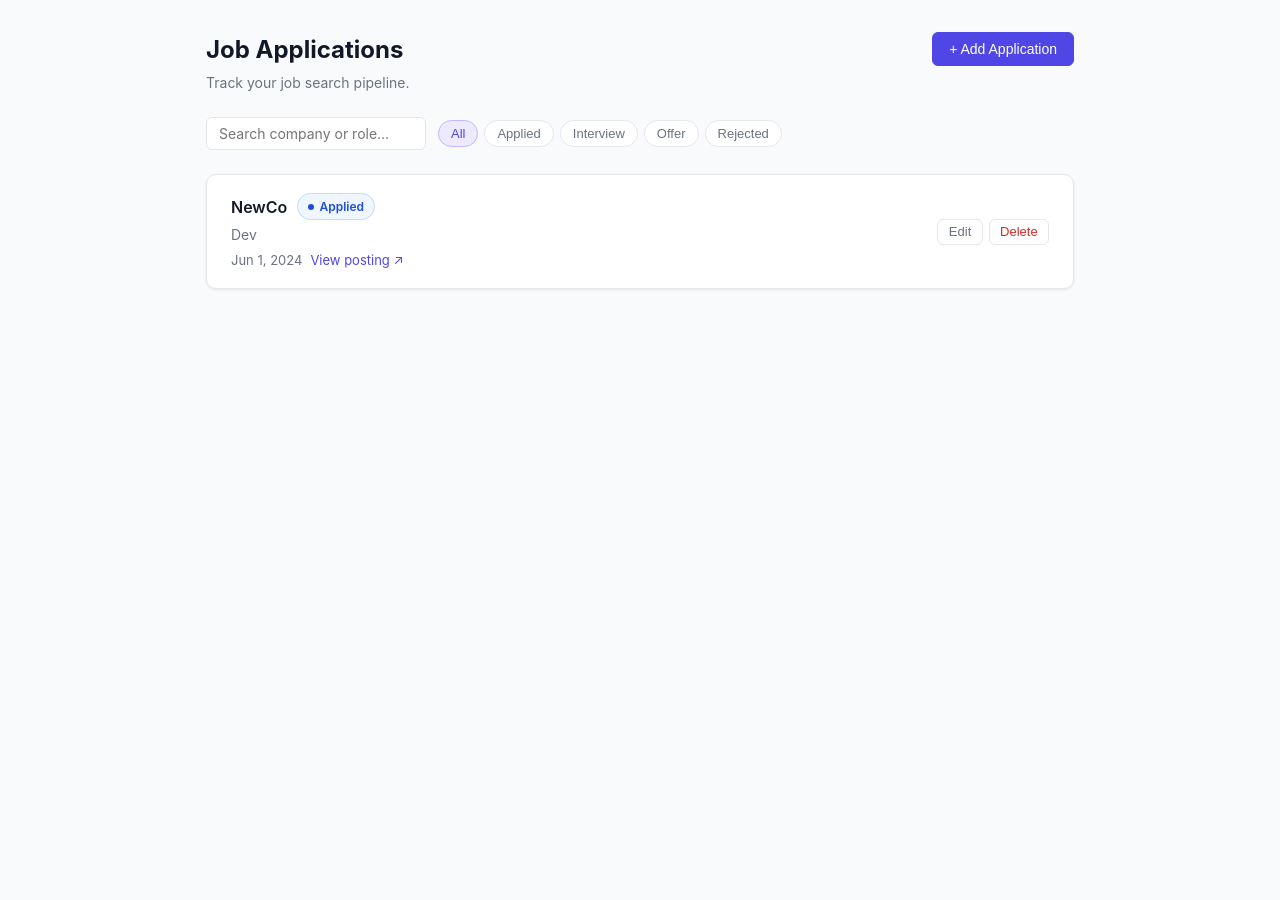
Test: ApplicationListView › shows validation errors when required fields are empty
The image size is (1280, 900).
Click the button "+ Add Application" at (1003, 49), box x1=932 y1=32 x2=1074 y2=66
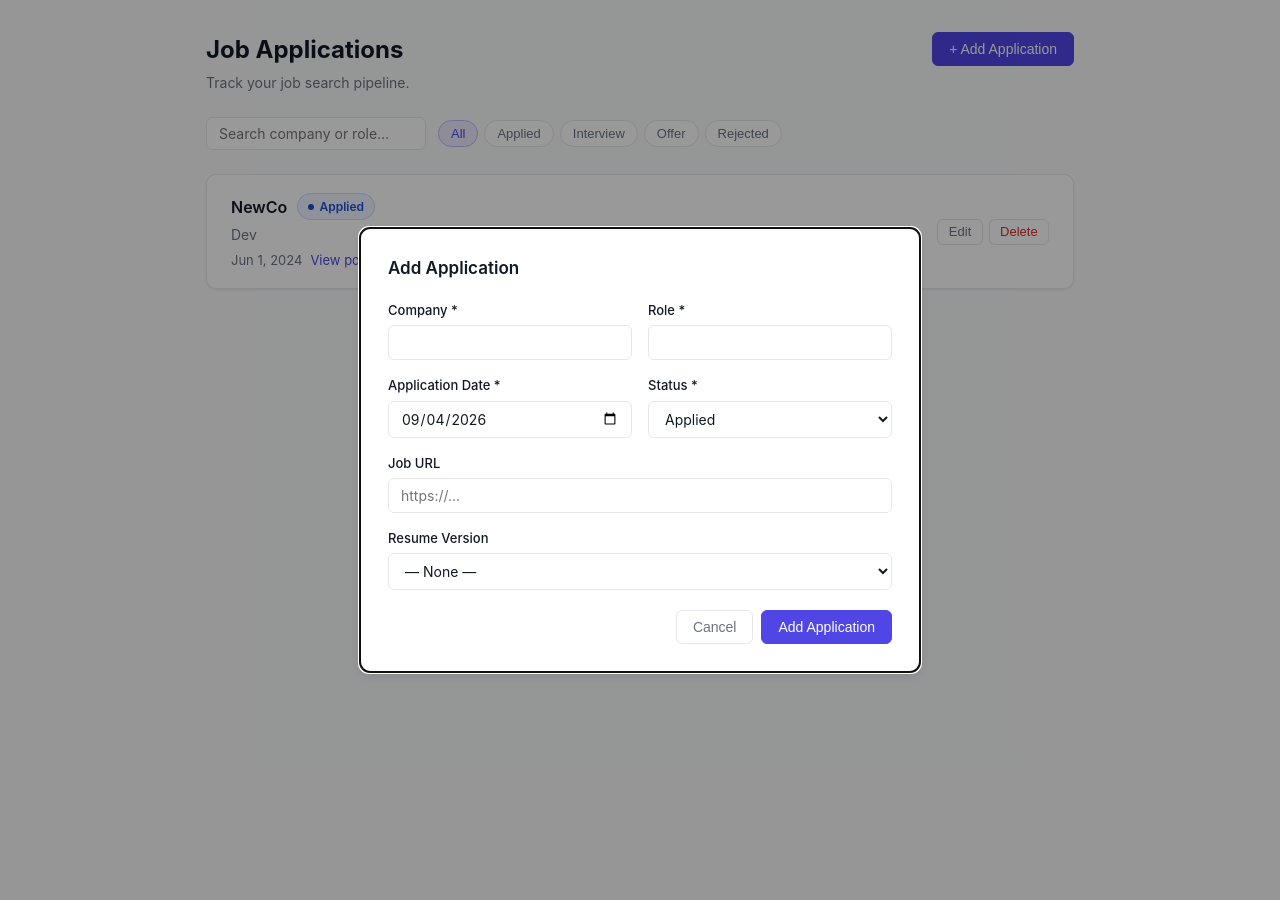
Submit the form, box x1=388 y1=301 x2=892 y2=644
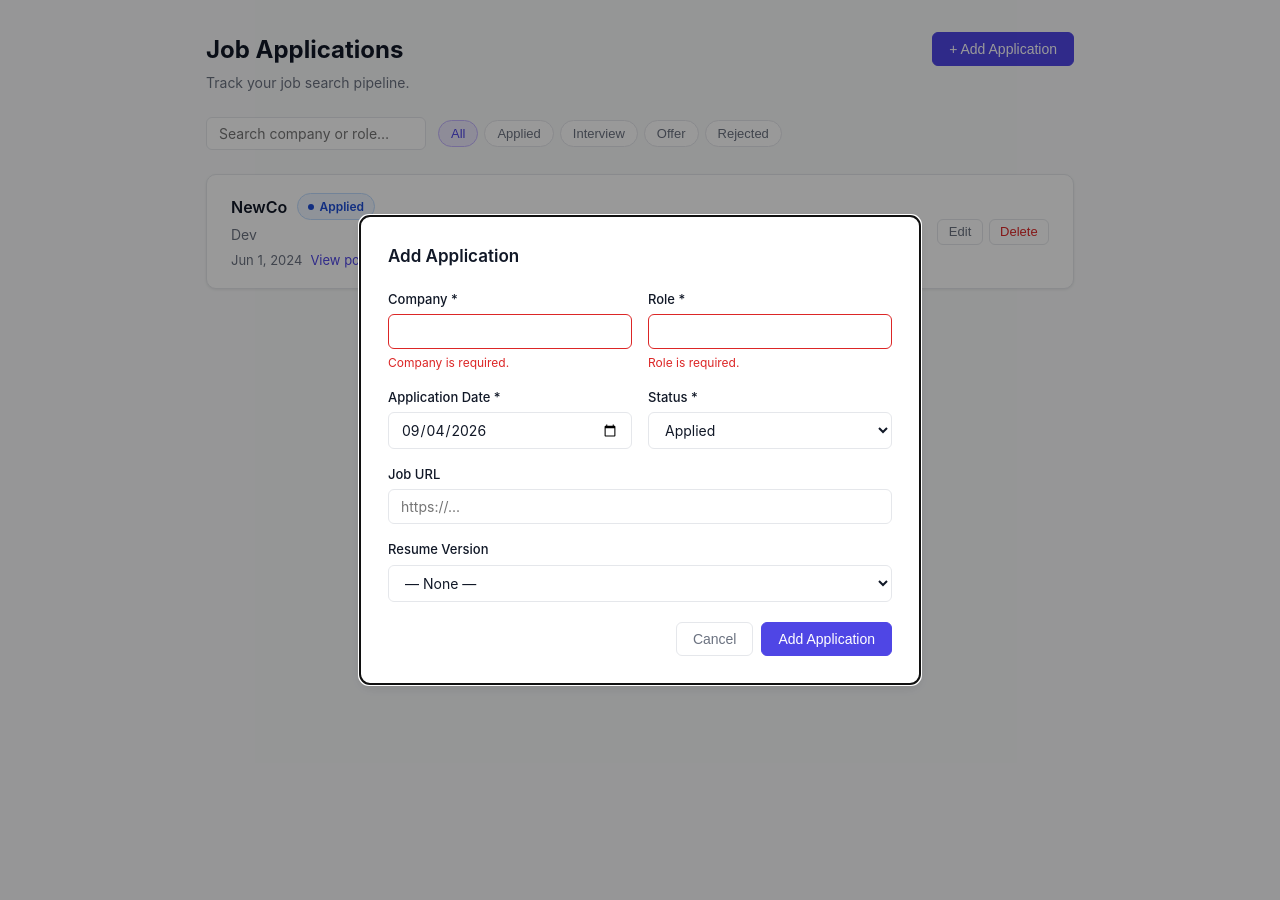
Expected: the text "Company is required." is shown, x1=388 y1=355 x2=509 y2=370
Expected: the text "Role is required." is shown, x1=648 y1=355 x2=739 y2=370
